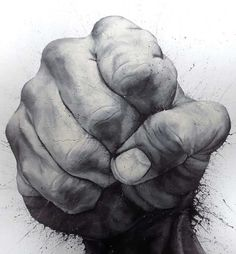fist: (28, 30, 211, 224)
